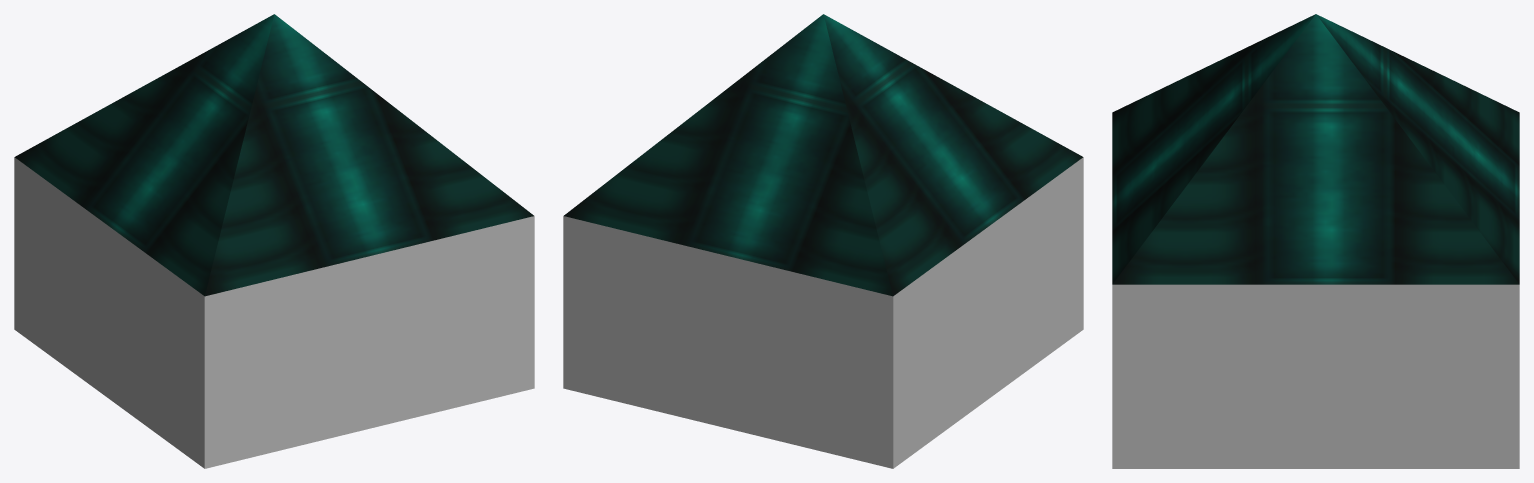
File: Column_1m_Cap1.fbx
The picture shows the model from 3 angles, left to right: view 1: azimuth 30°, elevation 25°; view 2: azimuth 150°, elevation 25°; view 3: azimuth 270°, elevation 25°; orthographic projection. The views are drawn at different scales.
Parts seen in each view (by area): view 1: Column_1m_Cap1; view 2: Column_1m_Cap1; view 3: Column_1m_Cap1.
Boxes of the visible parts, bbox=[...] form: Column_1m_Cap1: bbox=[14, 14, 534, 468]; Column_1m_Cap1: bbox=[563, 14, 1083, 468]; Column_1m_Cap1: bbox=[1112, 14, 1519, 468].
Size of the model in its own units: 100 by 100 by 100.
